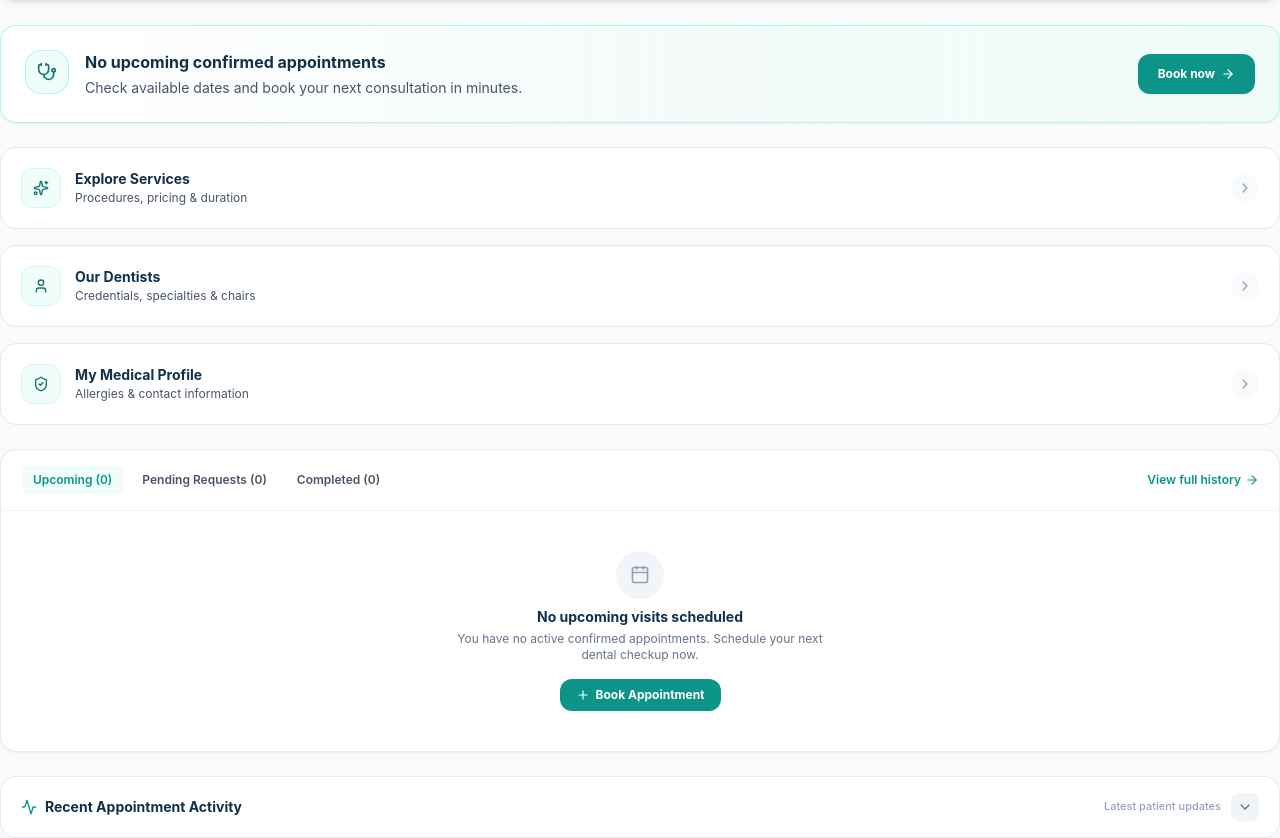
Test case: PatientDashboard Component › minimizes Recent Appointment Activity by default and toggles open/closed on click
This screenshot has width=1280, height=838.
(page scrolled)
Step 1. Click the button "Recent Appointment Activity Latest patient updates" → (144,806), box x1=1 y1=776 x2=1279 y2=836
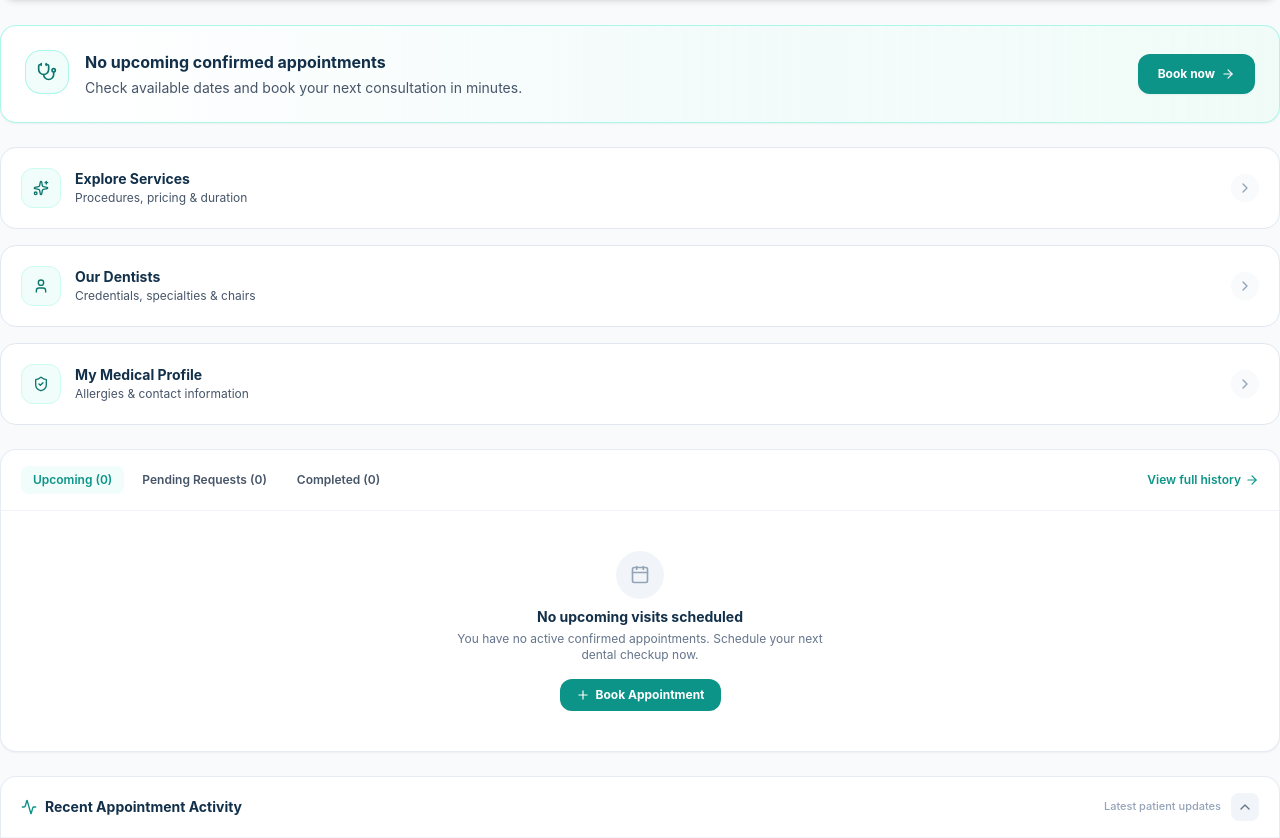
Check: the button "Recent Appointment Activity Latest patient updates" is expanded
Step 2. Click the button "Recent Appointment Activity Latest patient updates" → (144,806), box x1=1 y1=776 x2=1279 y2=836
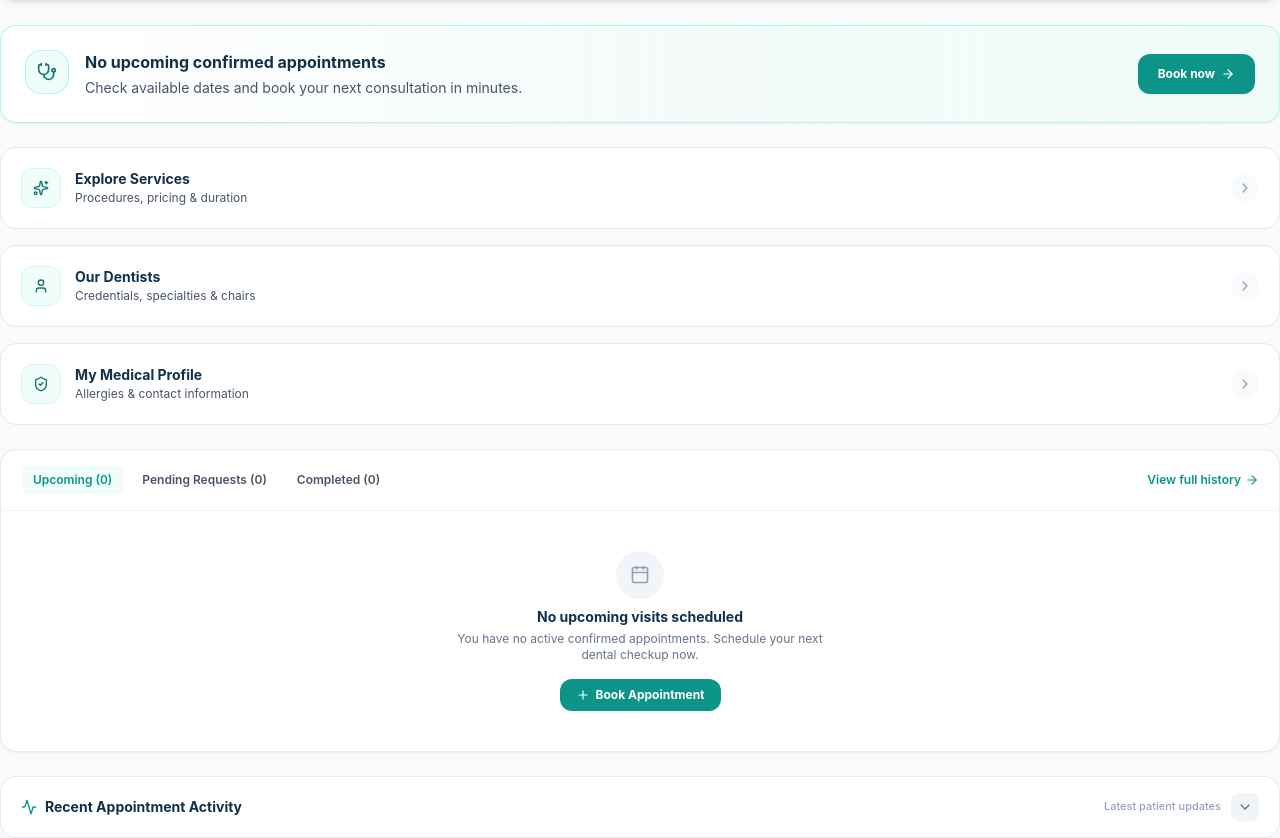
Check: the button "Recent Appointment Activity Latest patient updates" is collapsed, box x1=1 y1=776 x2=1279 y2=836
